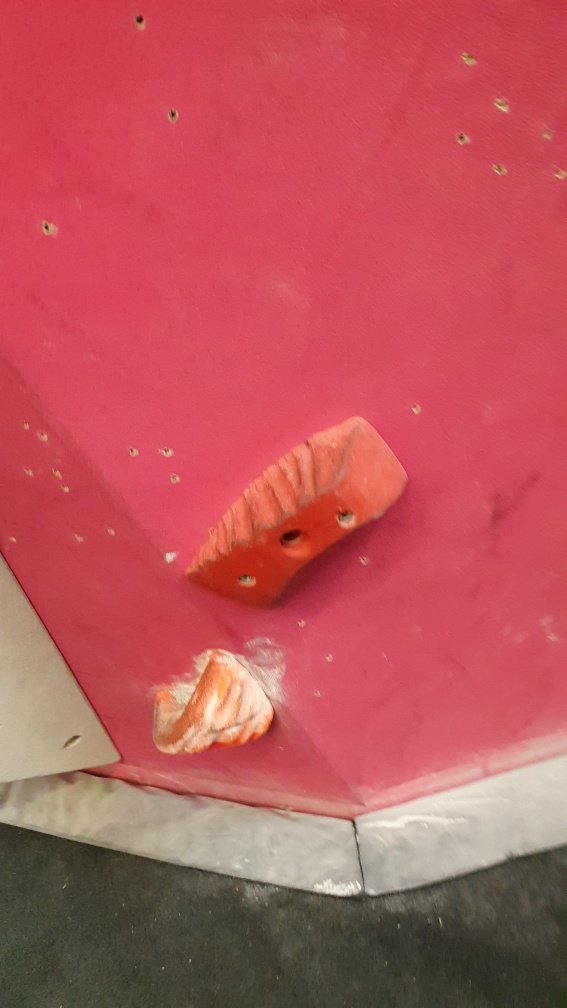Crimp: (181, 410, 413, 611)
Jug: (147, 645, 280, 765)
